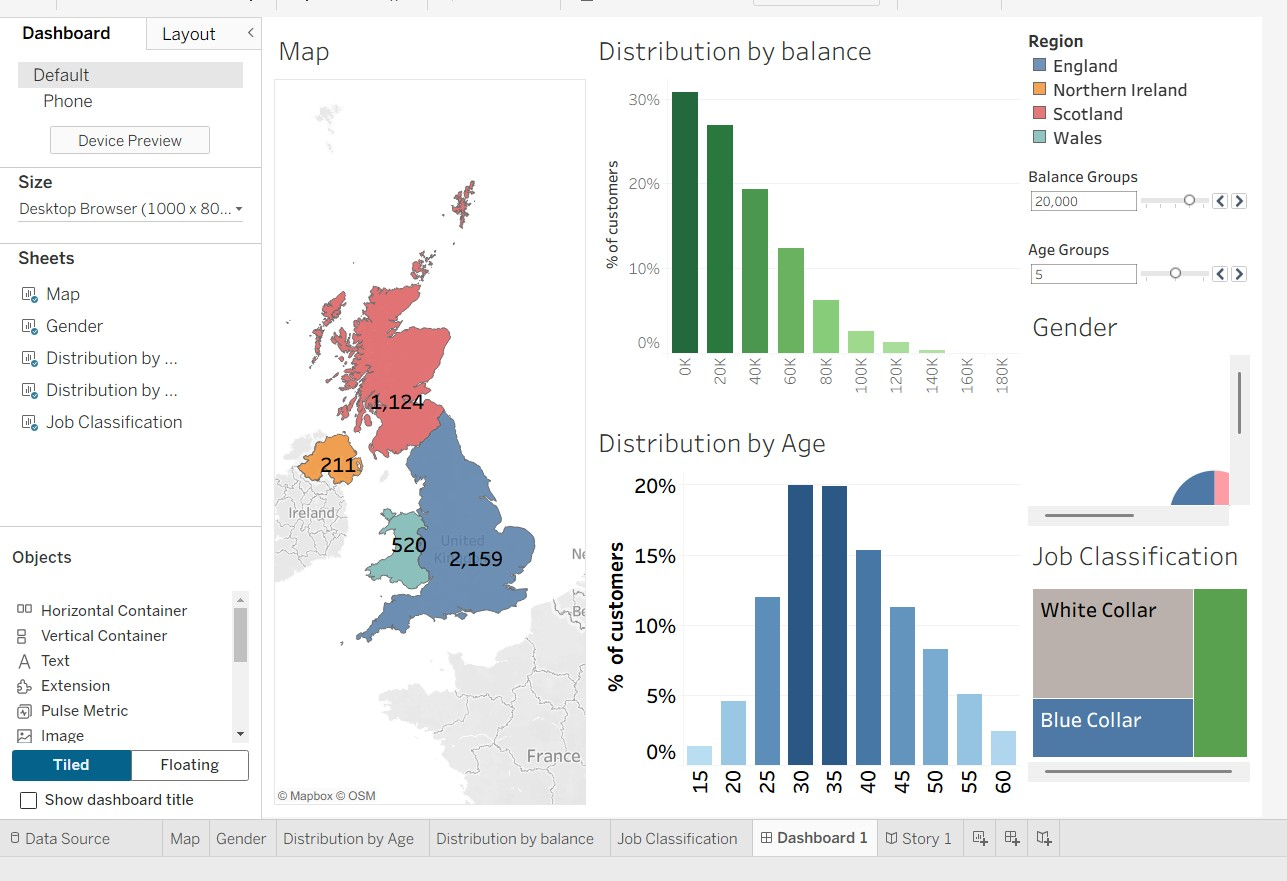

What the dashboard file says about the page in this screenshot:
{"tool":"tableau","page":{"name":"Dashboard 1","canvas":[1000,800],"ordinal":0},"visuals":[{"type":"worksheet","title":"Map","mark":"Multipolygon","box":[8,8,320.2,784]},{"type":"worksheet","title":"Distribution by balance","mark":"Automatic","rows":["S6-UK-Bank-Customers.csv_CBA9580B54124E5B9FC891CE15205485"],"cols":["Balance (bin)"],"box":[328.2,8,433.8,392]},{"type":"legend","title":"Map","param":"[federated.1guh83s0uyotbl1dfw3hu14m4dph].[none:Region:nk]","box":[762,8,230,137]},{"type":"parameter","param":"[Parameters].[Parameter 1]","box":[762,145,230,73]},{"type":"parameter","param":"[Parameters].[Parameter 2]","box":[762,218,230,66]},{"type":"worksheet","title":"Gender","mark":"Pie","box":[762,284,230,229]},{"type":"worksheet","title":"Distribution by Age","mark":"Bar","rows":["S6-UK-Bank-Customers.csv_CBA9580B54124E5B9FC891CE15205485"],"cols":["Age (bin)"],"box":[328.2,400,433.8,392]},{"type":"worksheet","title":"Job Classification","mark":"Automatic","box":[762,513,230,265]}]}

Visuals, with their boxes on the page's 1000x800 design canvas (x1, y1, x2, y2). These are canvas units, not pixel positions in the 1287x881 screenshot, which may show the page scaled, cropped or inside an application window:
"Map" worksheet (Multipolygon marks): bbox=[8, 8, 328, 792]
"Distribution by balance" worksheet: bbox=[328, 8, 762, 400]
"Map" legend: bbox=[762, 8, 992, 145]
parameter: bbox=[762, 145, 992, 218]
parameter: bbox=[762, 218, 992, 284]
"Gender" worksheet (Pie marks): bbox=[762, 284, 992, 513]
"Distribution by Age" worksheet (Bar marks): bbox=[328, 400, 762, 792]
"Job Classification" worksheet: bbox=[762, 513, 992, 778]
